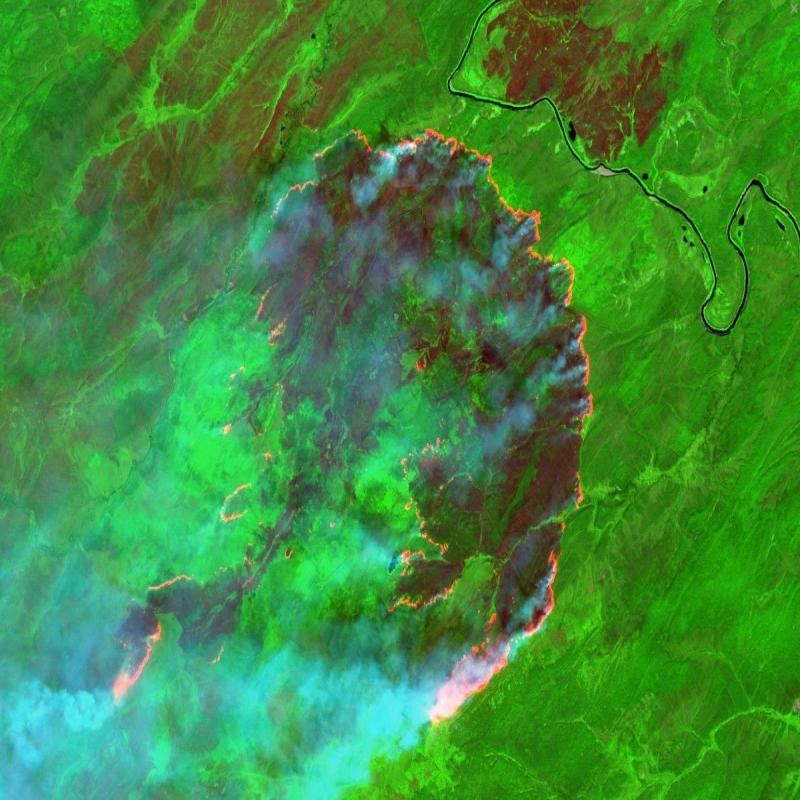fire: (97, 119, 602, 742)
